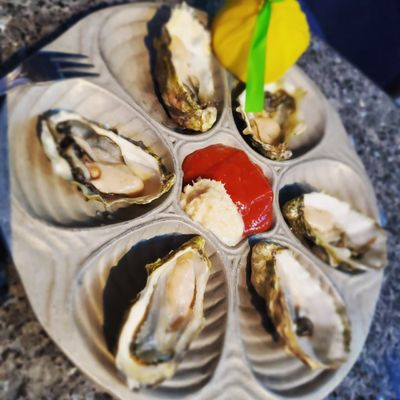burger: (0, 50, 99, 101)
pasta: (210, 0, 312, 109)
